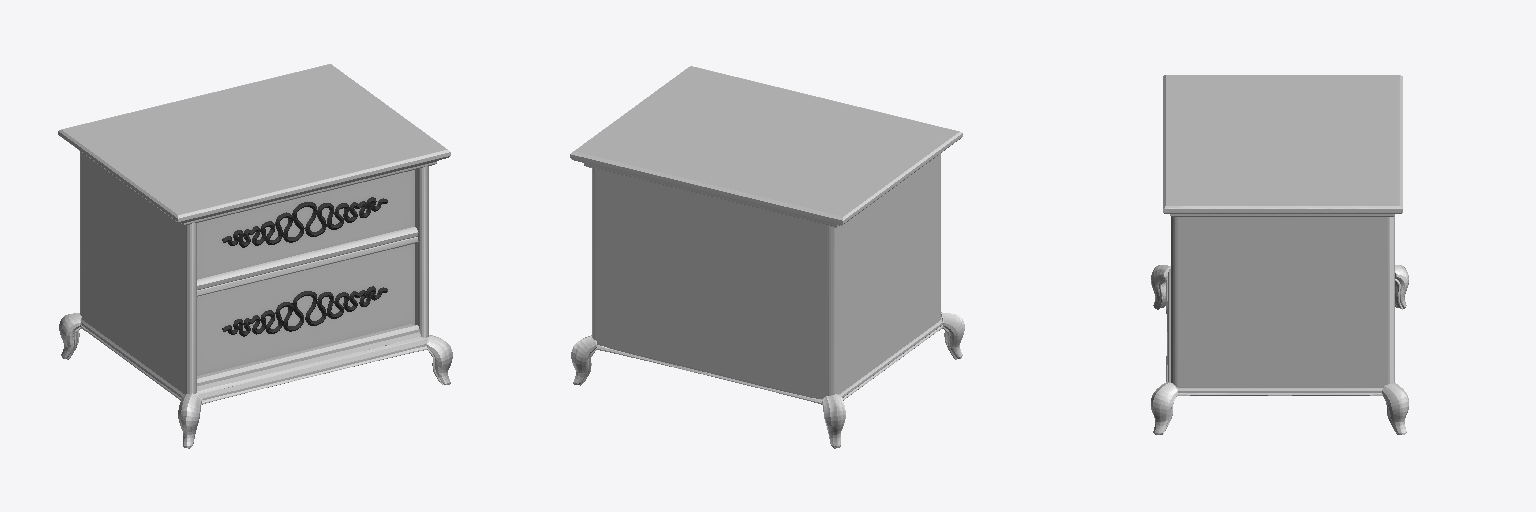
3 views of the same model, side by side, from view 1: azimuth 30°, elevation 25°; view 2: azimuth 150°, elevation 25°; view 3: azimuth 270°, elevation 25° (orthographic).
Visible parts, largest first — view 1: solid_001, solid_002; view 2: solid_001; view 3: solid_001.
Part boxes in pixels (bbox=[...]): solid_001: bbox=[58, 64, 452, 448]; solid_002: bbox=[222, 197, 387, 336]; solid_001: bbox=[570, 66, 964, 448]; solid_001: bbox=[1151, 75, 1408, 434].
Size of the model in its own units: 1.53 by 1.24 by 1.25.
Materials: 1 (1 with a texture image).